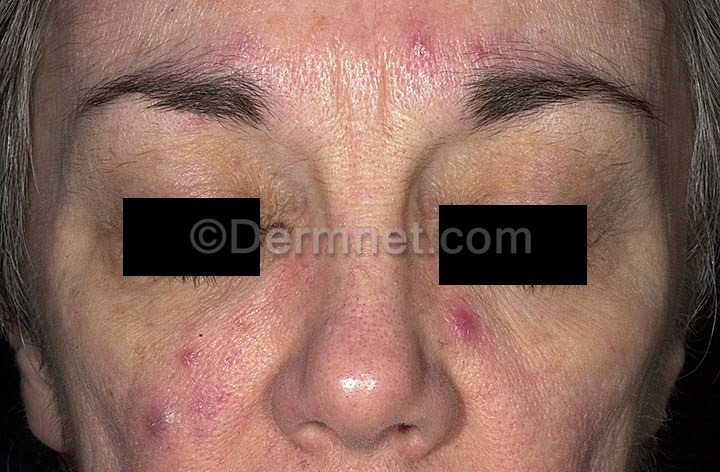Acne: (100, 275, 603, 436)
